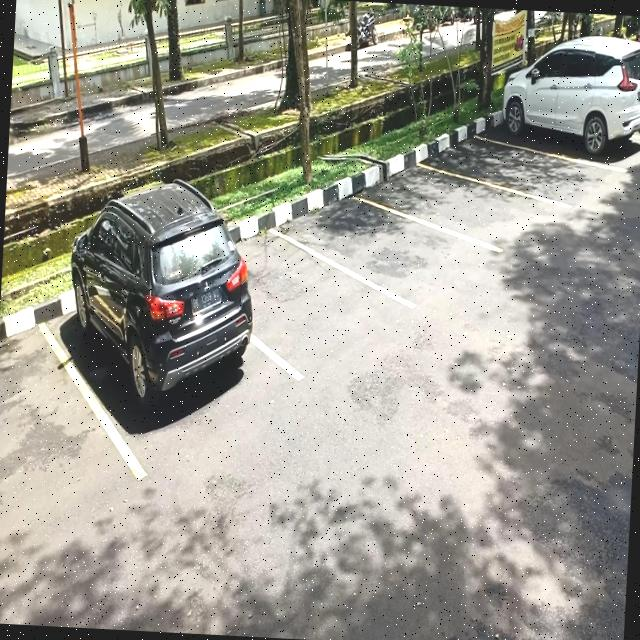empty: (252, 233, 371, 377), (321, 194, 427, 307), (412, 165, 512, 248), (464, 137, 568, 200)
occupied: (59, 248, 262, 472), (499, 56, 640, 165)
